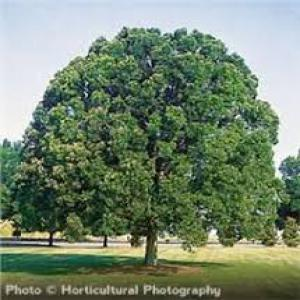Tree: (13, 23, 280, 264)
